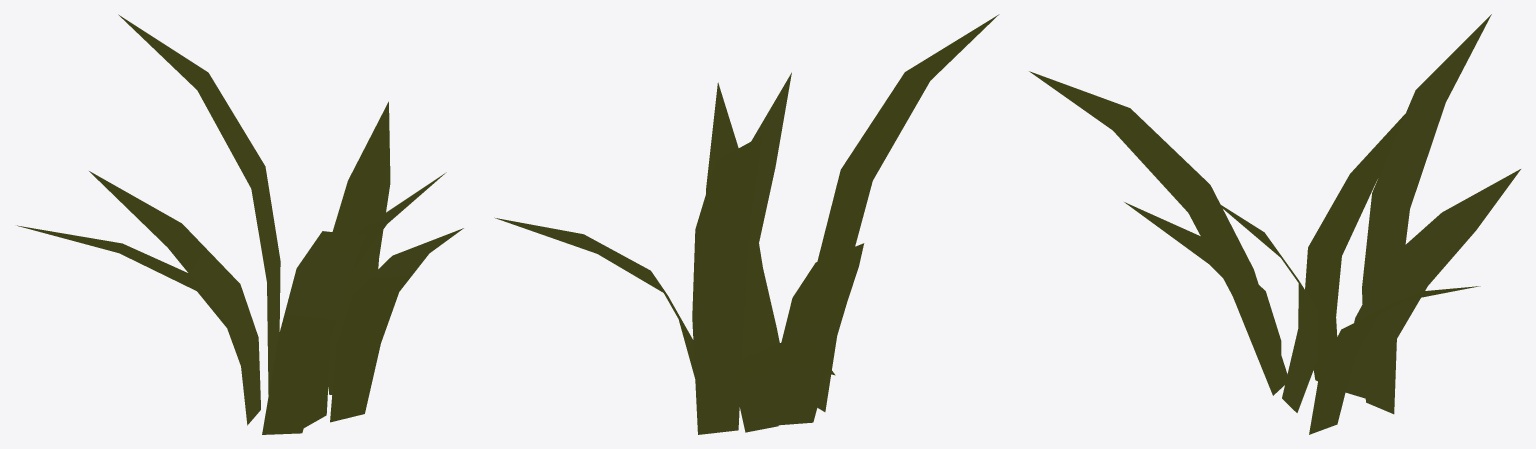
Rendered from d_grass_1.FBX.
3 views of the same model, side by side, from view 1: azimuth 30°, elevation 25°; view 2: azimuth 150°, elevation 25°; view 3: azimuth 270°, elevation 25° (orthographic). The views are drawn at different scales.
Visible parts, largest first — view 1: Plane004; view 2: Plane004; view 3: Plane004.
Boxes of the visible parts, x1,y1,x2,y2 form: Plane004: [17, 14, 463, 434]; Plane004: [494, 14, 999, 434]; Plane004: [1029, 14, 1520, 434].
Bounding box in the file's own units: 13.41 × 12.85 × 16.55.
